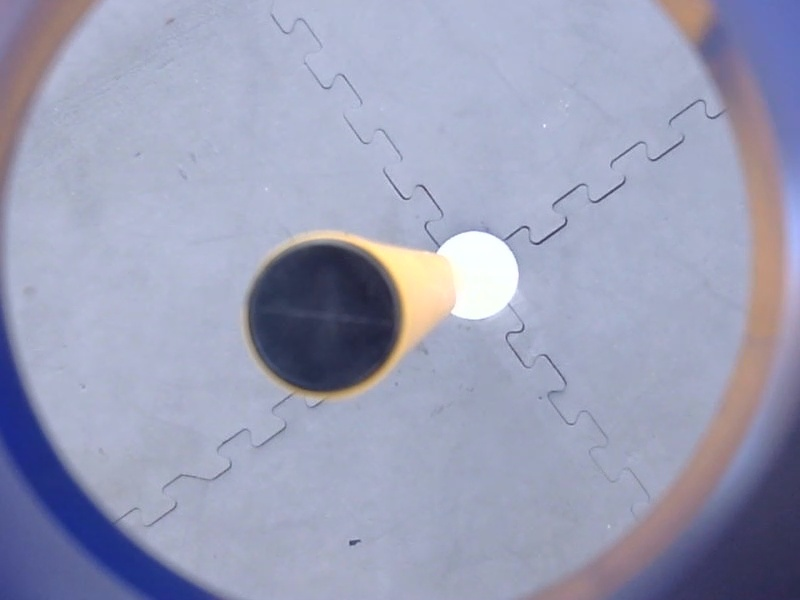tip: (236, 223, 414, 407)
